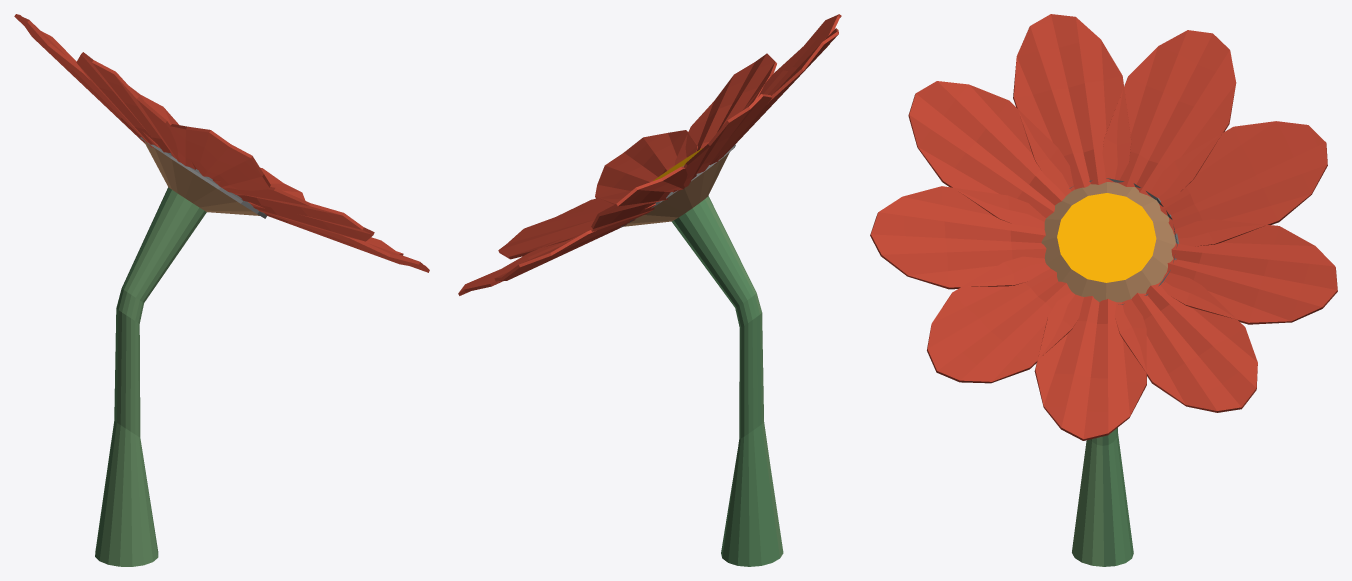
Rendered from Flower 1.fbx.
The picture shows the model from 3 angles, left to right: view 1: azimuth 30°, elevation 25°; view 2: azimuth 150°, elevation 25°; view 3: azimuth 270°, elevation 25°; orthographic projection. The views are drawn at different scales.
Parts seen in each view (by area): view 1: Flower; view 2: Flower; view 3: Flower.
Part boxes in pixels (x1,y1,x2,y2): Flower: (14,14,429,566); Flower: (458,14,841,566); Flower: (870,14,1337,566).
Size of the model in its own units: 30.91 by 48.4 by 40.07.
